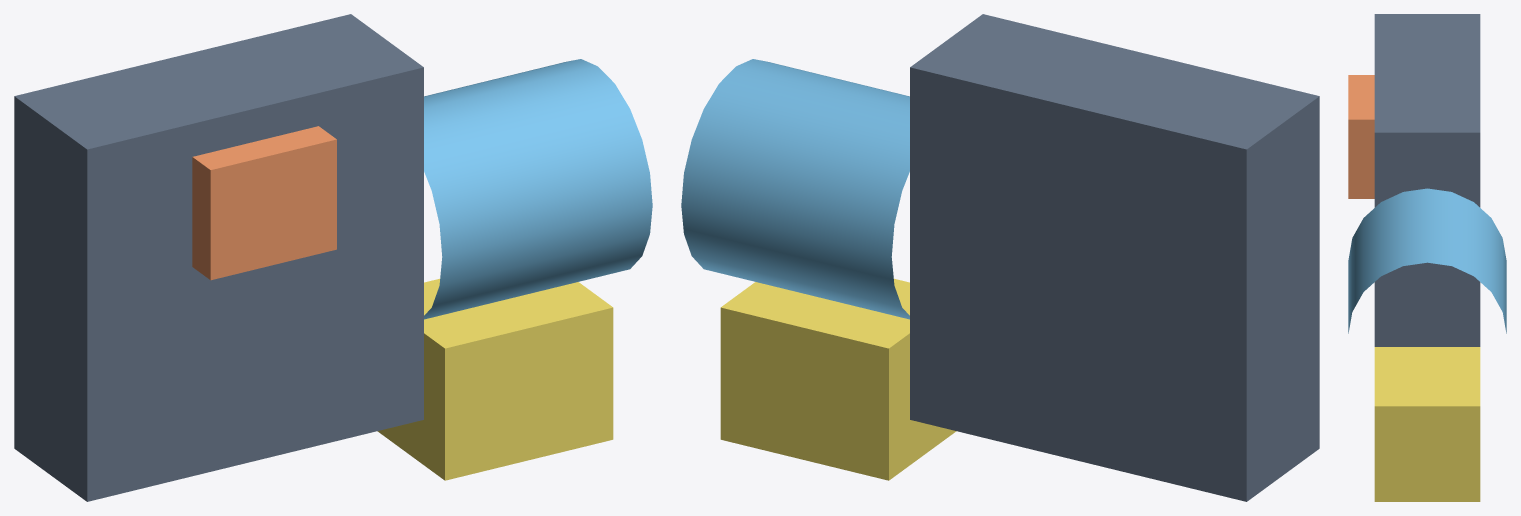
The model's file is control_electrical_machines.glb.
3 views of the same model, side by side, from view 1: azimuth 30°, elevation 25°; view 2: azimuth 150°, elevation 25°; view 3: azimuth 270°, elevation 25° (orthographic). The views are drawn at different scales.
Visible parts, largest first — view 1: StarDeltaContactorCabinet, InductionMotorDriveUnit, RotorResistanceBank, ThermalOverloadRelay; view 2: StarDeltaContactorCabinet, InductionMotorDriveUnit, RotorResistanceBank; view 3: StarDeltaContactorCabinet, RotorResistanceBank, InductionMotorDriveUnit, ThermalOverloadRelay.
Part boxes in pixels (left/top/right/bottom): StarDeltaContactorCabinet: left=14, top=14, right=423, bottom=501; InductionMotorDriveUnit: left=424, top=59, right=652, bottom=319; RotorResistanceBank: left=377, top=278, right=613, bottom=480; ThermalOverloadRelay: left=192, top=126, right=336, bottom=280; StarDeltaContactorCabinet: left=910, top=14, right=1319, bottom=501; InductionMotorDriveUnit: left=681, top=59, right=909, bottom=319; RotorResistanceBank: left=720, top=278, right=956, bottom=480; StarDeltaContactorCabinet: left=1374, top=14, right=1480, bottom=346; RotorResistanceBank: left=1374, top=347, right=1480, bottom=501; InductionMotorDriveUnit: left=1348, top=188, right=1506, bottom=333; ThermalOverloadRelay: left=1348, top=75, right=1374, bottom=198.
Size of the model in its own units: 2.6 by 1.9 by 0.9.
